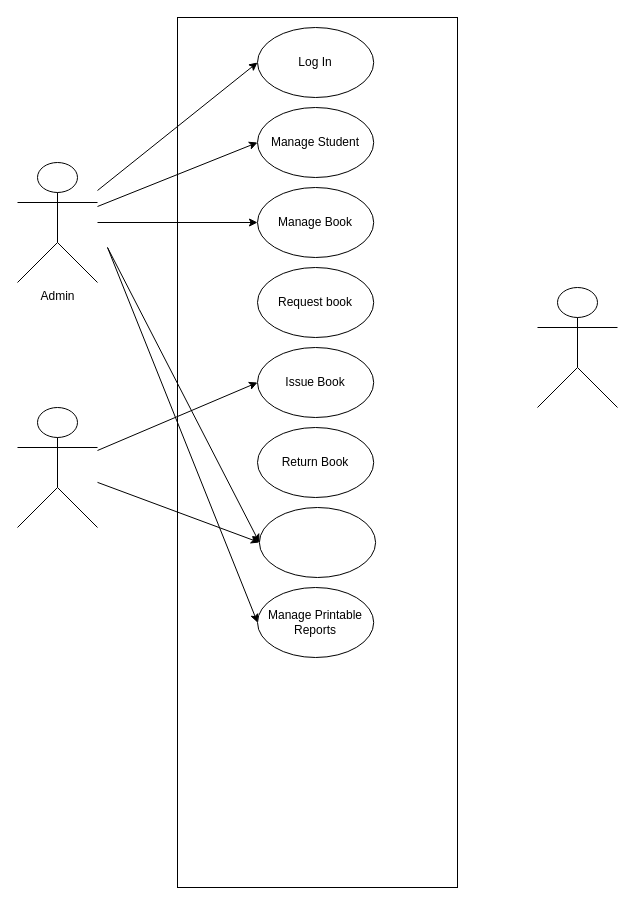
The diagram is 635 pixels wide and 905 high, and some of its shapes have lost their labels. Here are the shapes that lost their labels. From the top down, the centre of each, then its label:
At point (577, 347): "Student".
At point (57, 467): "Staff".
At point (317, 542): "Manage Fines".
